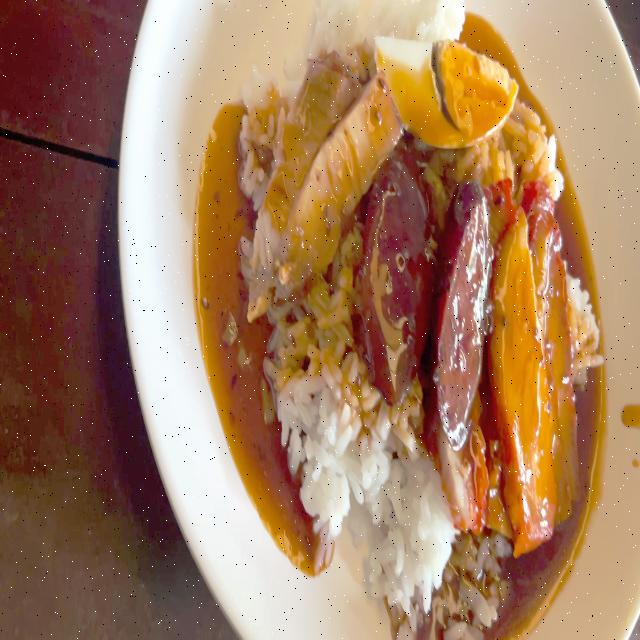boiled_egg: (383, 33, 514, 134)
chainese_sausage: (363, 153, 488, 427), (371, 165, 437, 382), (440, 194, 487, 431)
crispy_pork: (249, 38, 391, 290), (271, 91, 398, 301), (254, 56, 349, 259)
red_pork: (504, 195, 577, 525), (539, 194, 587, 528), (494, 196, 537, 544), (448, 445, 488, 529)
red_pork_and_crispy_pork: (238, 0, 602, 640)
rice: (275, 307, 373, 517), (353, 413, 441, 606), (311, 0, 465, 36)
